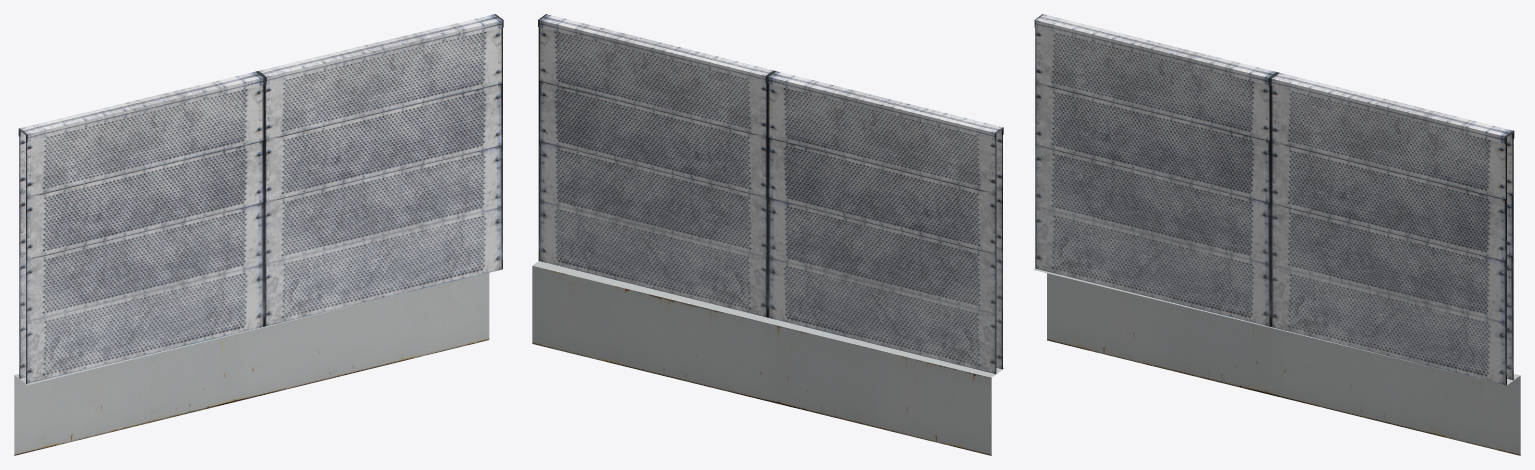
File: Preset_WallHwyB.fbx
3 views of the same model, side by side, from view 1: azimuth 30°, elevation 25°; view 2: azimuth 150°, elevation 25°; view 3: azimuth 330°, elevation 25° (orthographic). The views are drawn at different scales.
Visible parts, largest first — view 1: BodyUp, BodyDw; view 2: BodyUp, BodyDw; view 3: BodyUp, BodyDw.
Part boxes in pixels (x1,y1,x2,y2): BodyUp: [18, 14, 503, 383]; BodyDw: [14, 272, 489, 455]; BodyUp: [538, 14, 1003, 373]; BodyDw: [532, 261, 1004, 455]; BodyUp: [1034, 14, 1514, 385]; BodyDw: [1033, 268, 1520, 455].
Size of the model in its own units: 400 by 21 by 266.
Materials: 2 (2 with a texture image).
